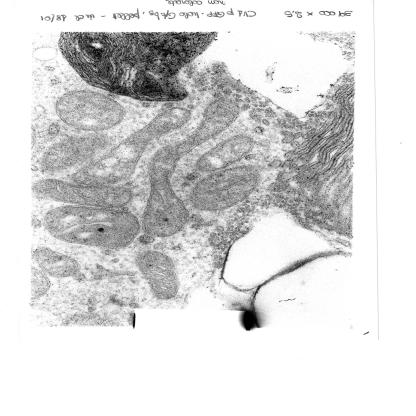mitochondria: (44, 205, 140, 249), (188, 166, 259, 213), (53, 90, 127, 131), (32, 180, 134, 209), (136, 249, 181, 298), (193, 134, 254, 170), (33, 248, 79, 276)
